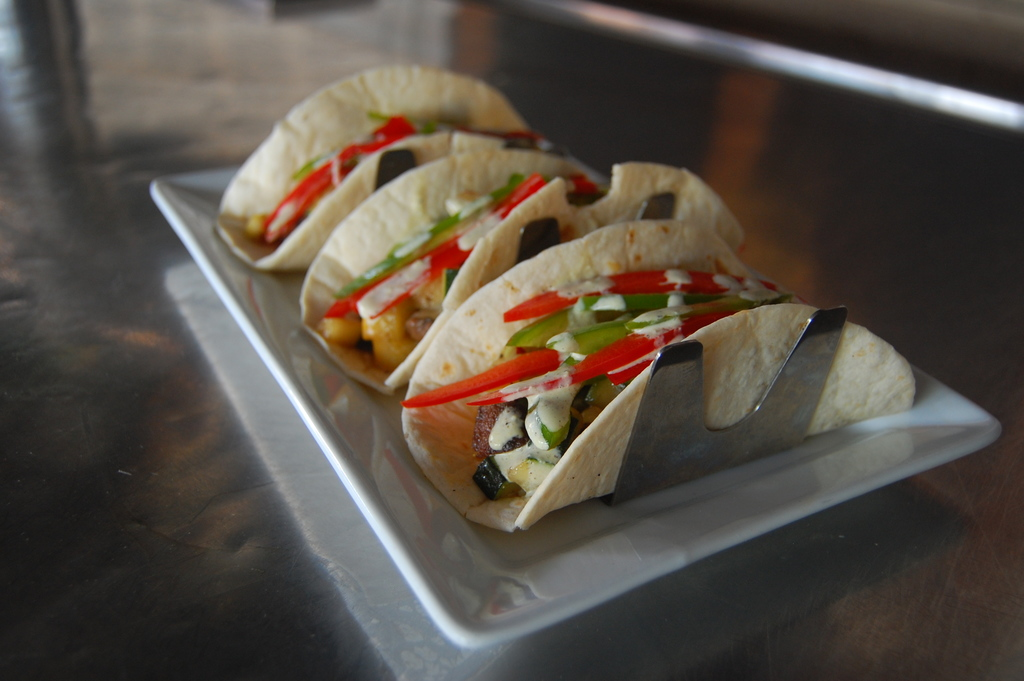taco: (276, 108, 916, 564), (183, 71, 530, 270)
